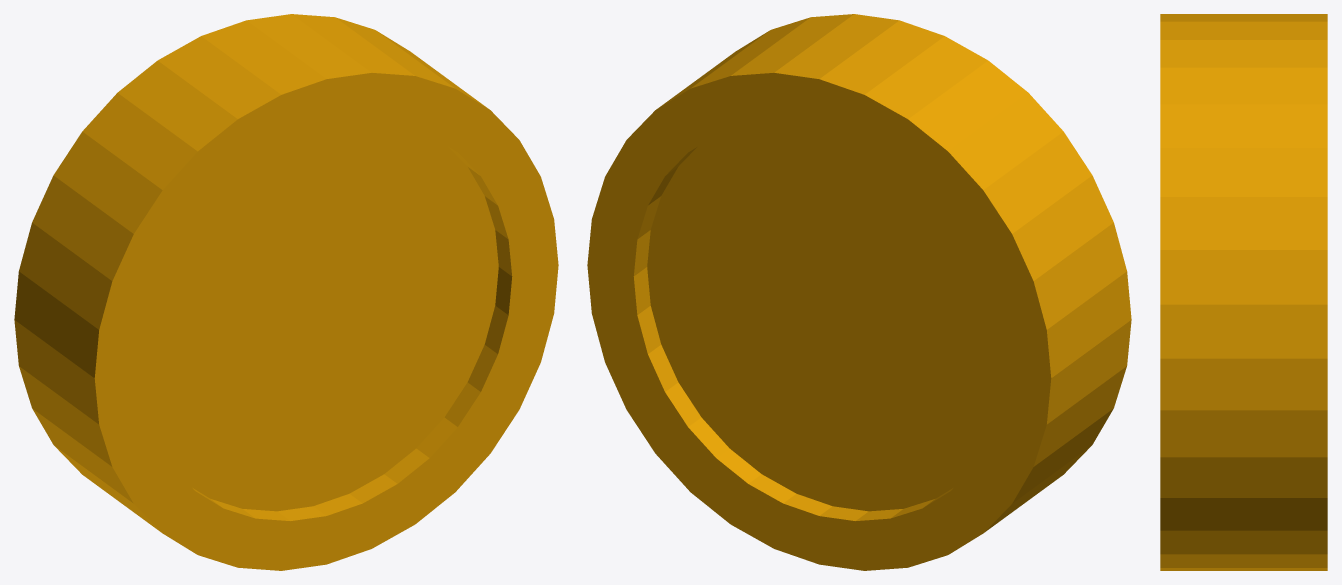
The model's file is coin.fbx.
The picture shows the model from 3 angles, left to right: view 1: azimuth 30°, elevation 25°; view 2: azimuth 150°, elevation 25°; view 3: azimuth 270°, elevation 25°; orthographic projection. The views are drawn at different scales.
Visible parts, largest first — view 1: Cylinder; view 2: Cylinder; view 3: Cylinder.
Part boxes in pixels (bbox=[...]): Cylinder: bbox=[14, 14, 558, 570]; Cylinder: bbox=[587, 14, 1131, 570]; Cylinder: bbox=[1160, 14, 1327, 570].
Size of the model in its own units: 200 by 200 by 60.
